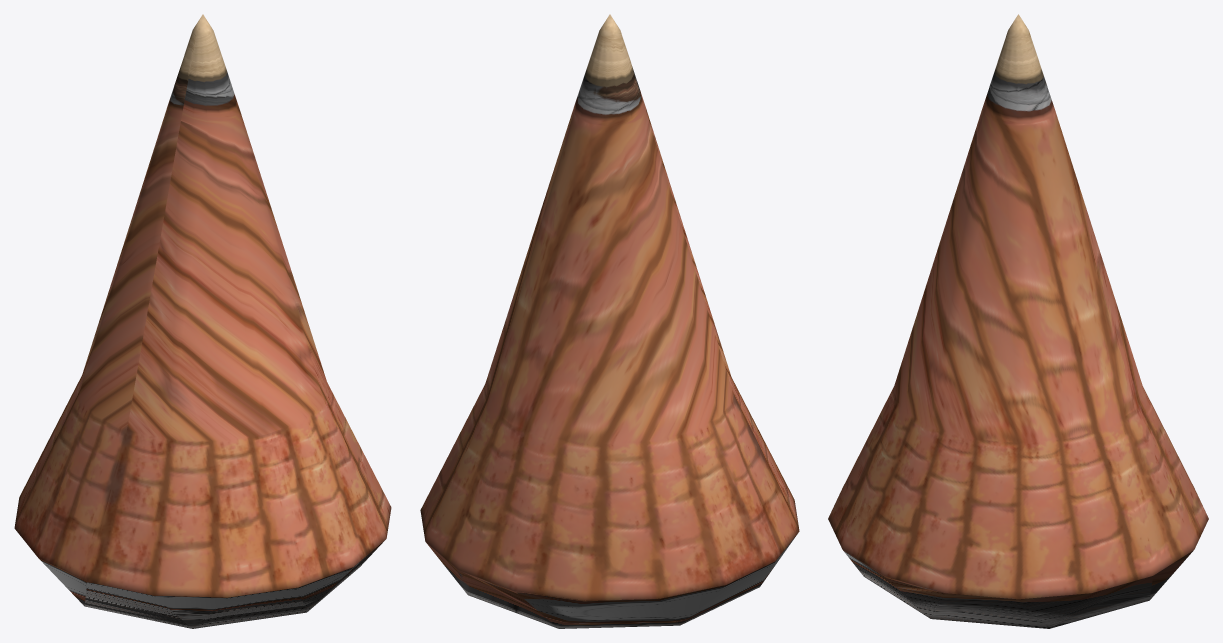
Rendered from sb_obj_outdoor001_Castle01_CircleWallTop00_col.fbx.
3 views of the same model, side by side, from view 1: azimuth 30°, elevation 25°; view 2: azimuth 150°, elevation 25°; view 3: azimuth 270°, elevation 25° (orthographic).
Visible parts, largest first — view 1: sb_obj_outdoor001_Castle01_CircleWallTop00_col; view 2: sb_obj_outdoor001_Castle01_CircleWallTop00_col; view 3: sb_obj_outdoor001_Castle01_CircleWallTop00_col.
Boxes of the visible parts, x1,y1,x2,y2 form: sb_obj_outdoor001_Castle01_CircleWallTop00_col: (14,14,391,628); sb_obj_outdoor001_Castle01_CircleWallTop00_col: (420,14,799,628); sb_obj_outdoor001_Castle01_CircleWallTop00_col: (828,14,1208,628).
Bounding box in the file's own units: 3.72 × 5.92 × 3.72.
